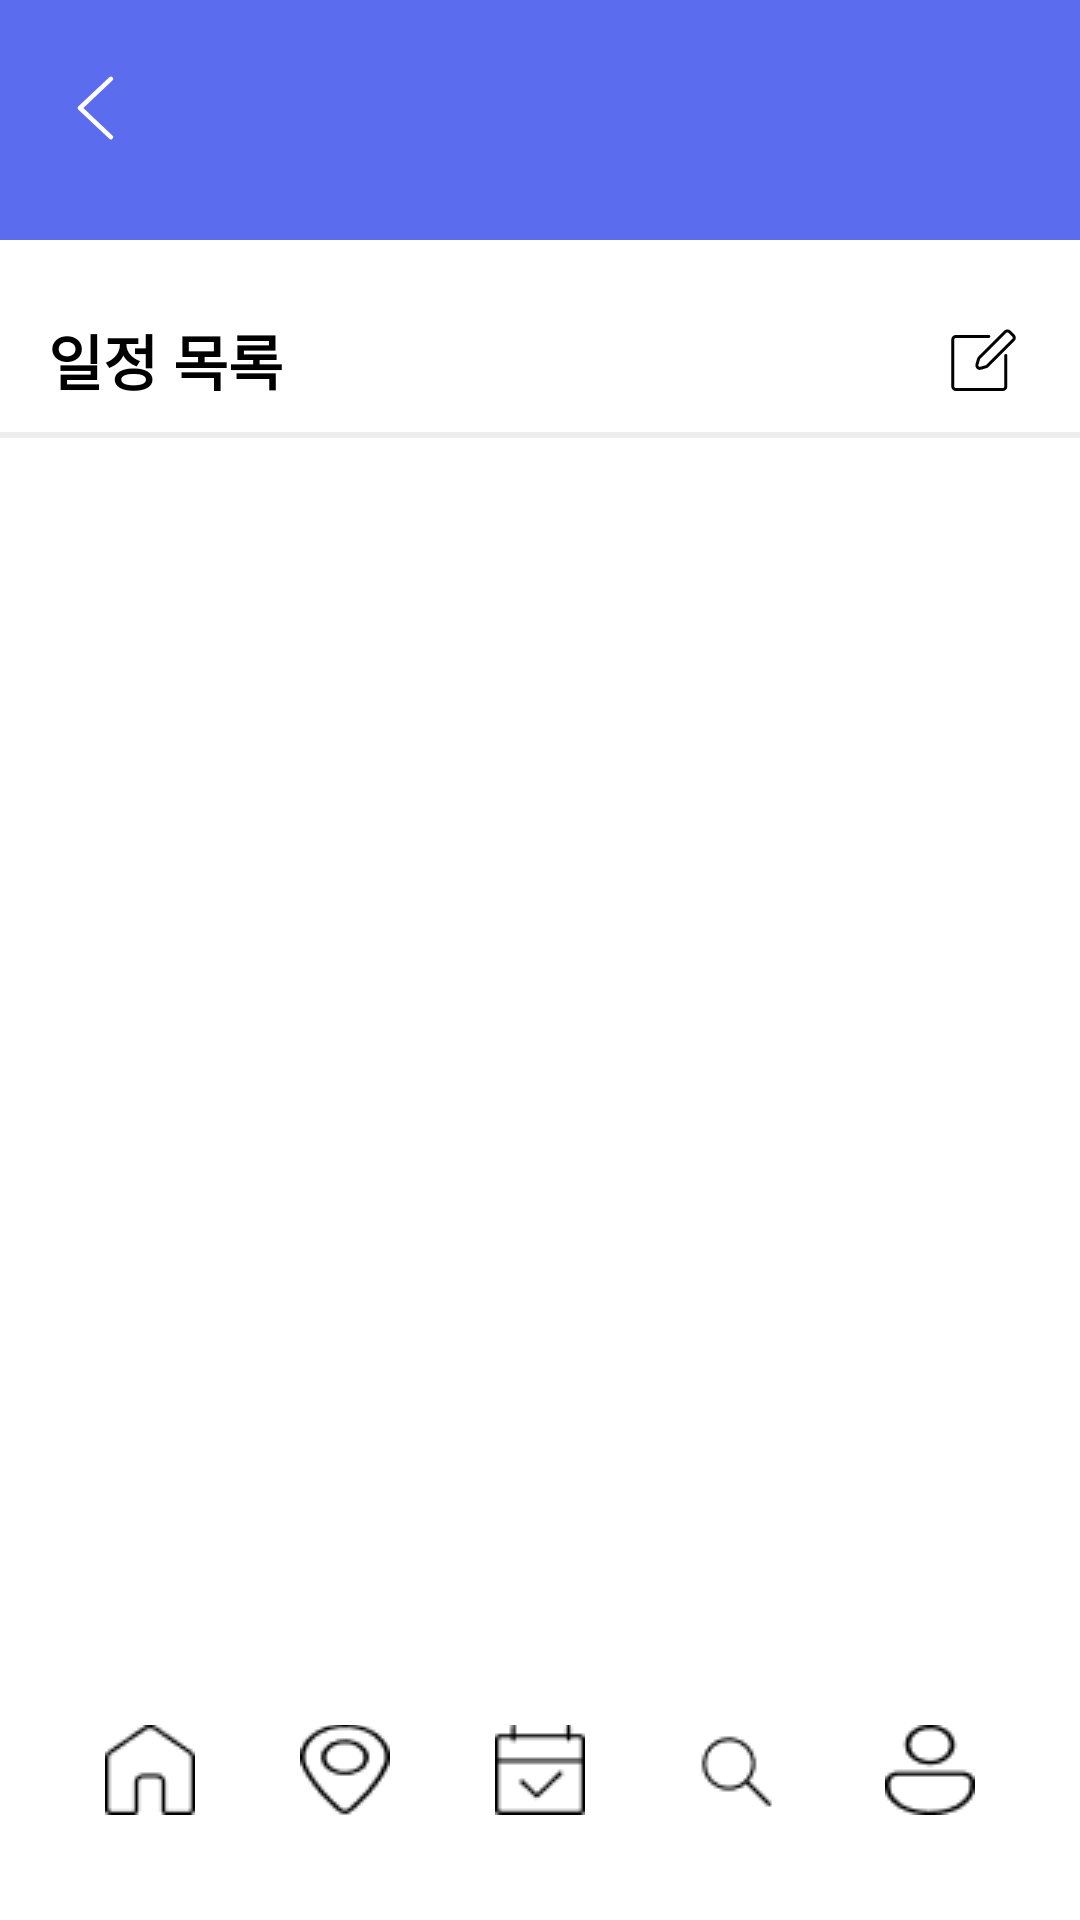

Icon click points for this 1080×1920 phone screenshot, format (x,y):
home: (150,1770)
검색: (736,1771)
나만의 지도: (345,1770)
뒤로가기: (95,108)
일정 편집: (983,360)
프로필: (930,1770)
